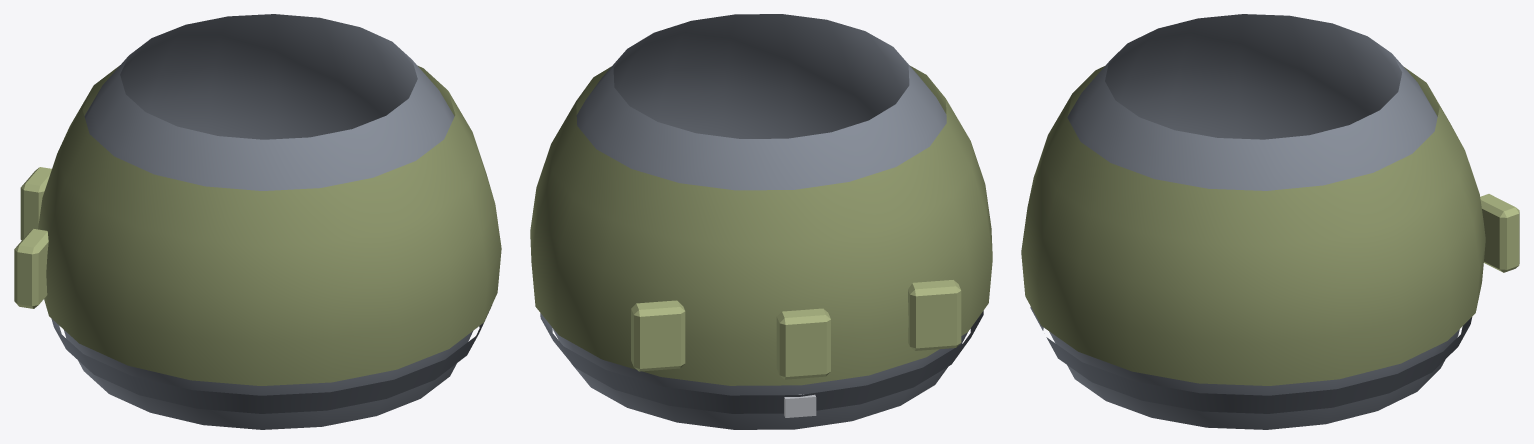
The model's file is specialforce_chest.fbx.
3 renders of one model, left to right at view 1: azimuth 30°, elevation 25°; view 2: azimuth 150°, elevation 25°; view 3: azimuth 270°, elevation 25°, orthographic.
Parts seen in each view (by area): view 1: specialforce_chest; view 2: specialforce_chest; view 3: specialforce_chest.
Boxes of the visible parts, left/top/right/bottom form: specialforce_chest: left=14, top=14, right=501, bottom=429; specialforce_chest: left=530, top=14, right=992, bottom=429; specialforce_chest: left=1021, top=14, right=1519, bottom=429.
Bounding box in the file's own units: 1.89 × 1.15 × 1.91.
